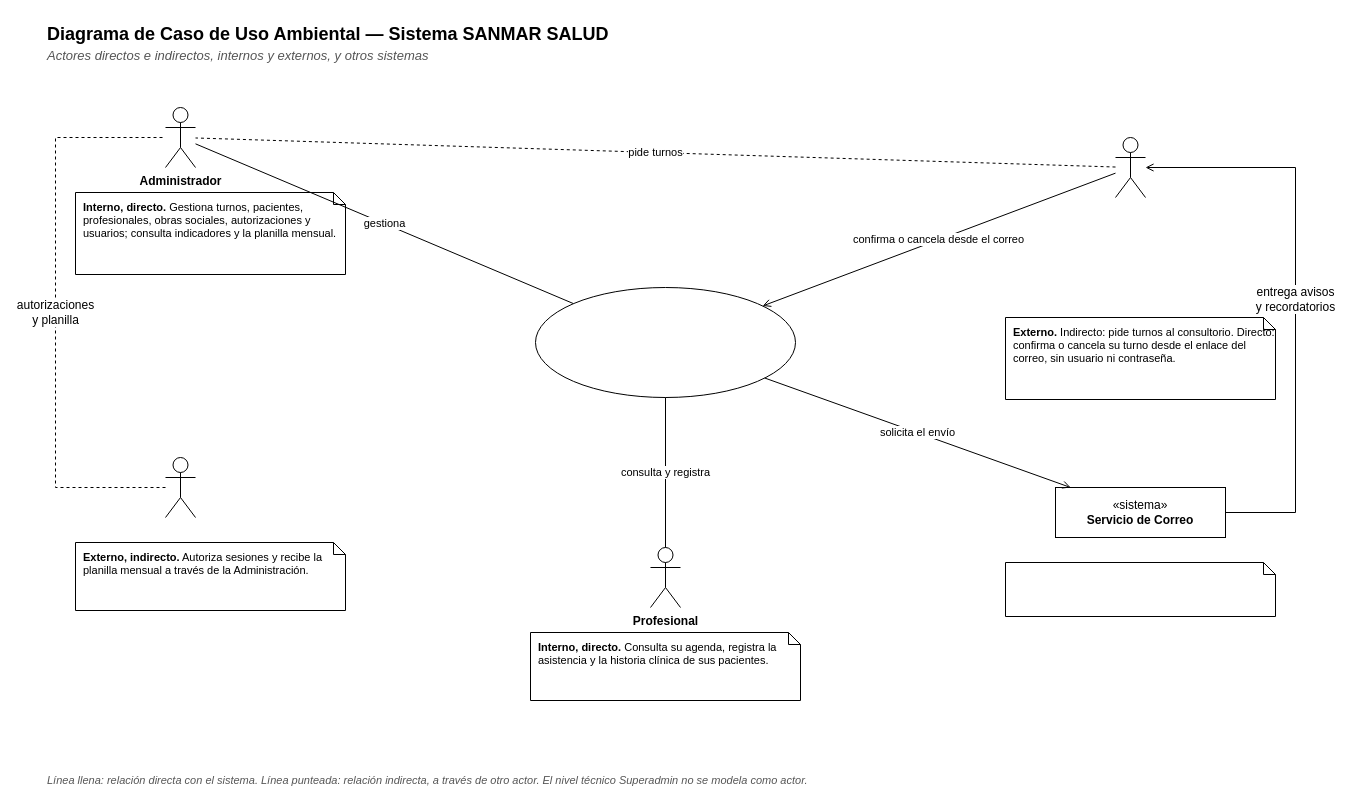
Some shapes in this 1352 by 804 pixel diagram are drawn without their labels. Each missing label, with the box of its shape:
Obras Sociales: (164, 456, 196, 518)
Paciente: (1114, 136, 1146, 198)
Sistema de Gestión SANMAR SALUD (KineTurnos): (534, 286, 796, 398)
Sistema externo. Entrega los avisos y recordatorios que genera el sistema.: (1004, 562, 1276, 616)
